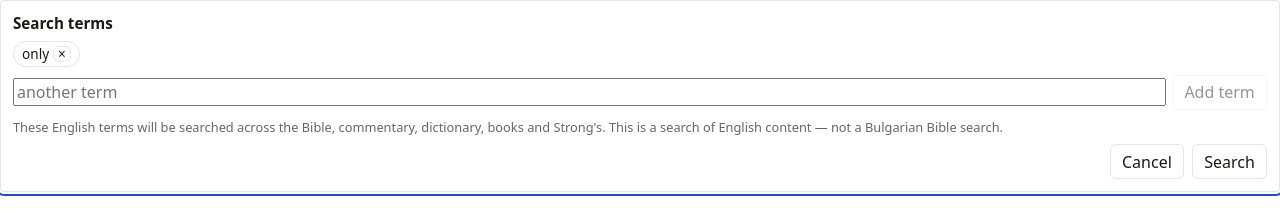
Scenario: TurnPanel — confirm › disables Search with no terms left; a turn cannot search nothing
This screenshot has width=1280, height=213.
Click the button named "Remove only" at (62,54), box [53,46,71,62]
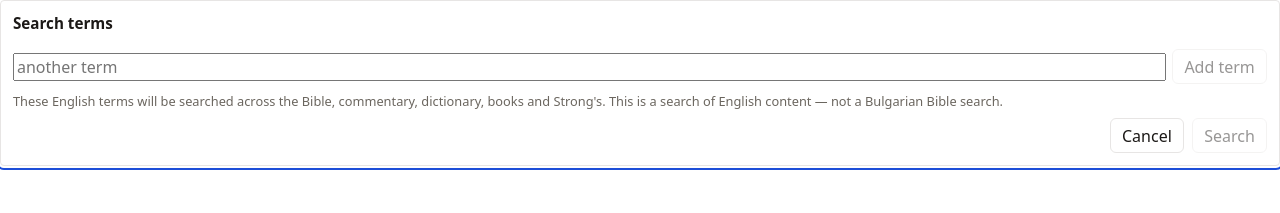
Expected: the button "Search" is disabled, [1192,118,1267,153]
